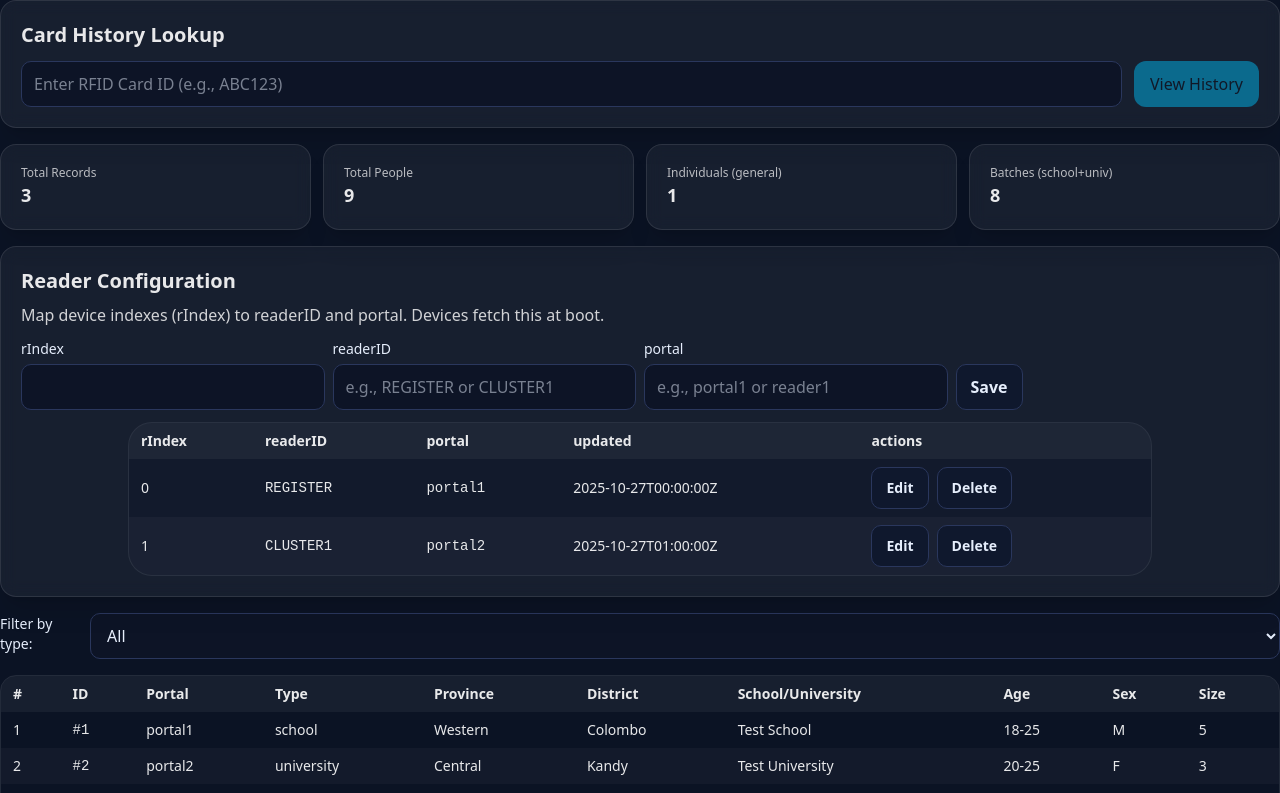
Test: AdminPortal › Reader Configuration Management › should validate reader configuration form
expect the heading "Reader Configuration" is shown: met, box [21,267,236,294]
Try to save with invalid rIndex
Type "-1" into the number field at (173, 387), box [21,364,324,410]
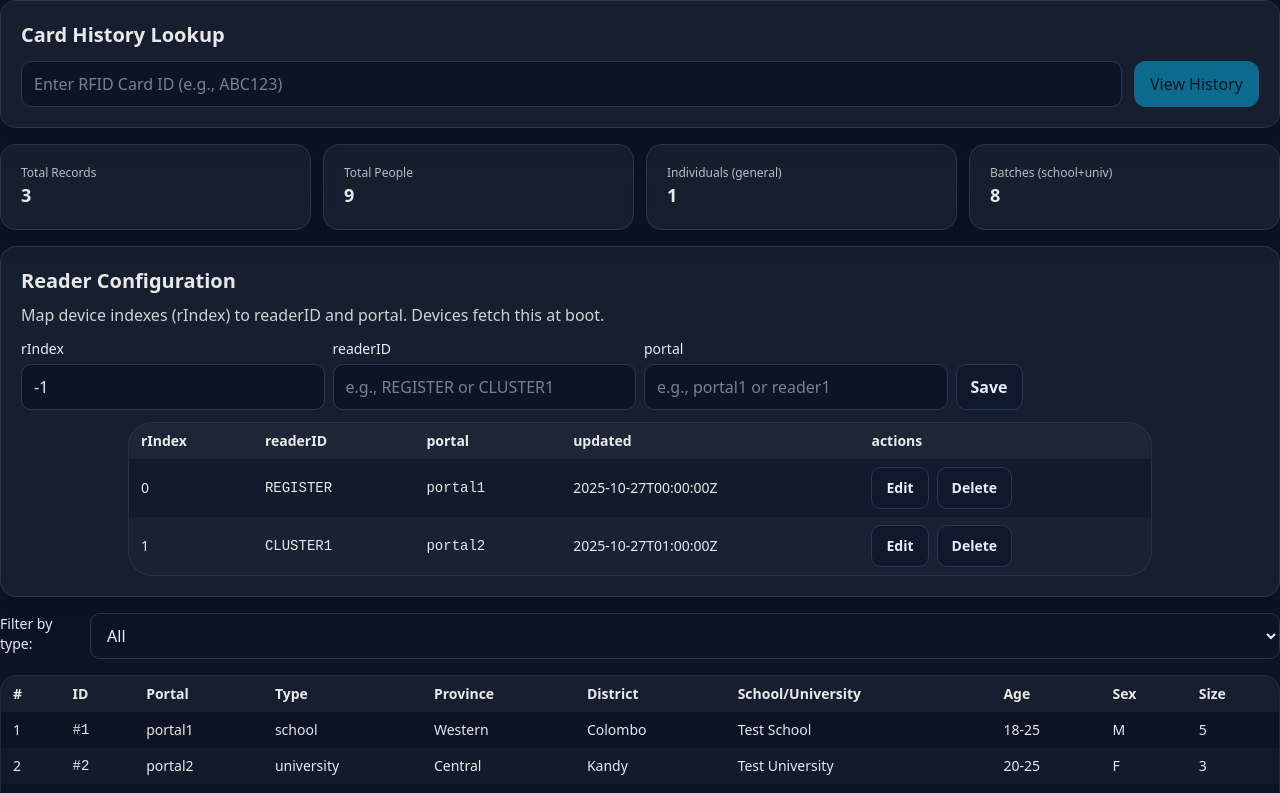
Click the button "Save" at (989, 387), box [956,364,1022,410]
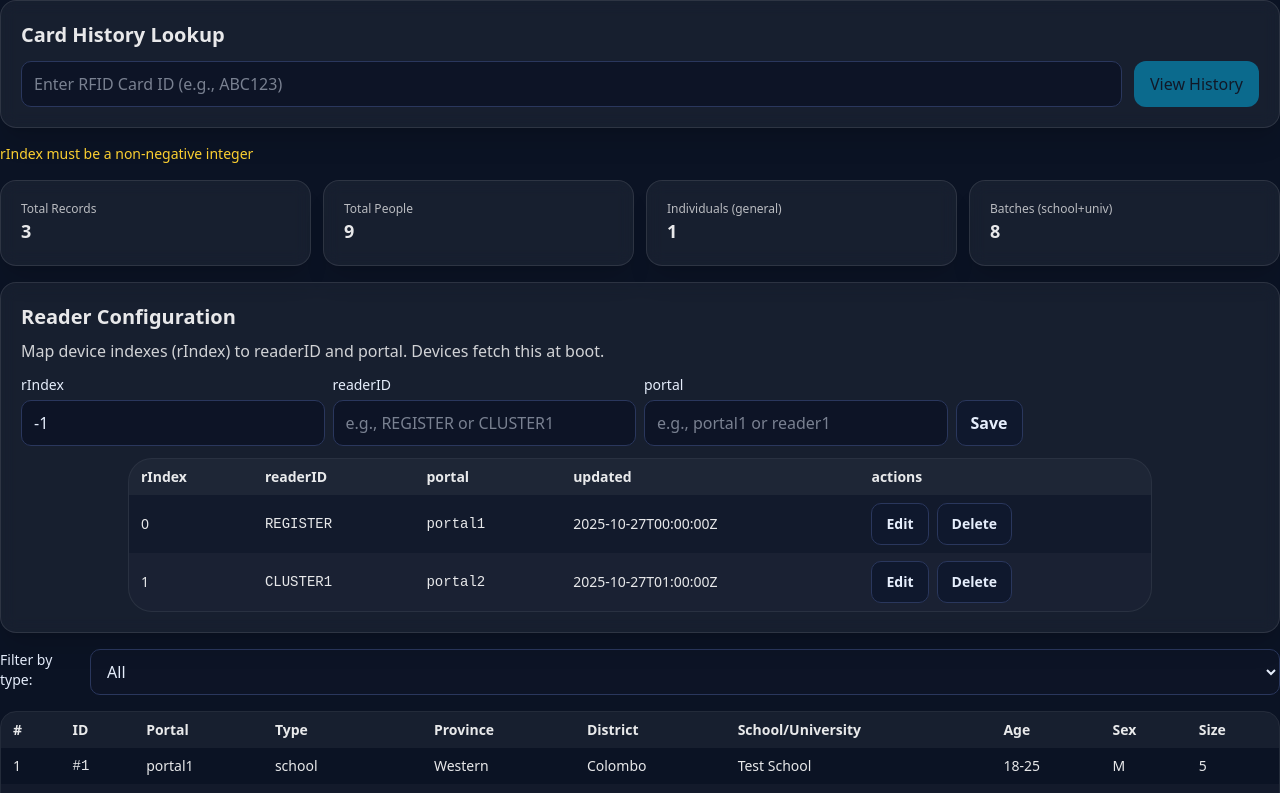
expect the text "rIndex must be a non-negative integer" is shown: met, box [0,144,253,163]
Try to save with missing fields
Replace the text in the number field with "1" at (173, 423), box [21,400,324,446]
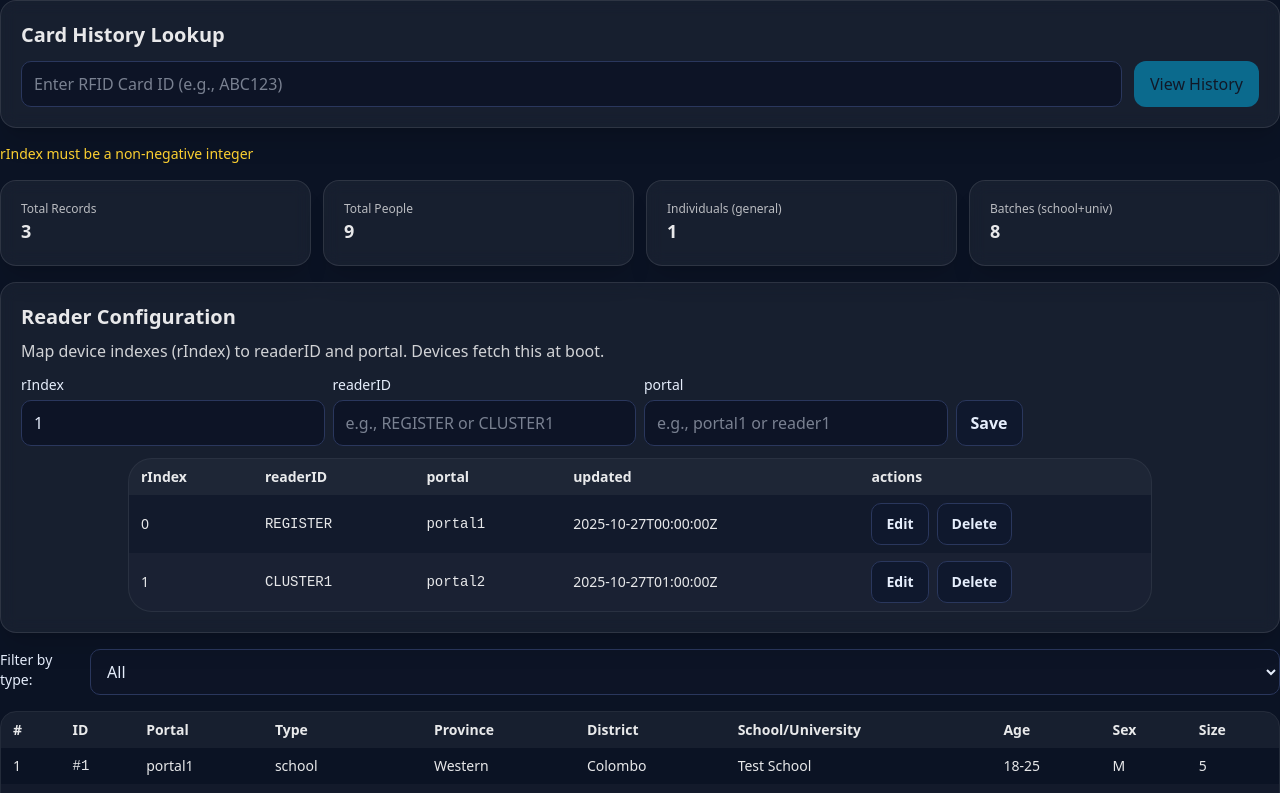
Click the button "Save" at (989, 423), box [956,400,1022,446]
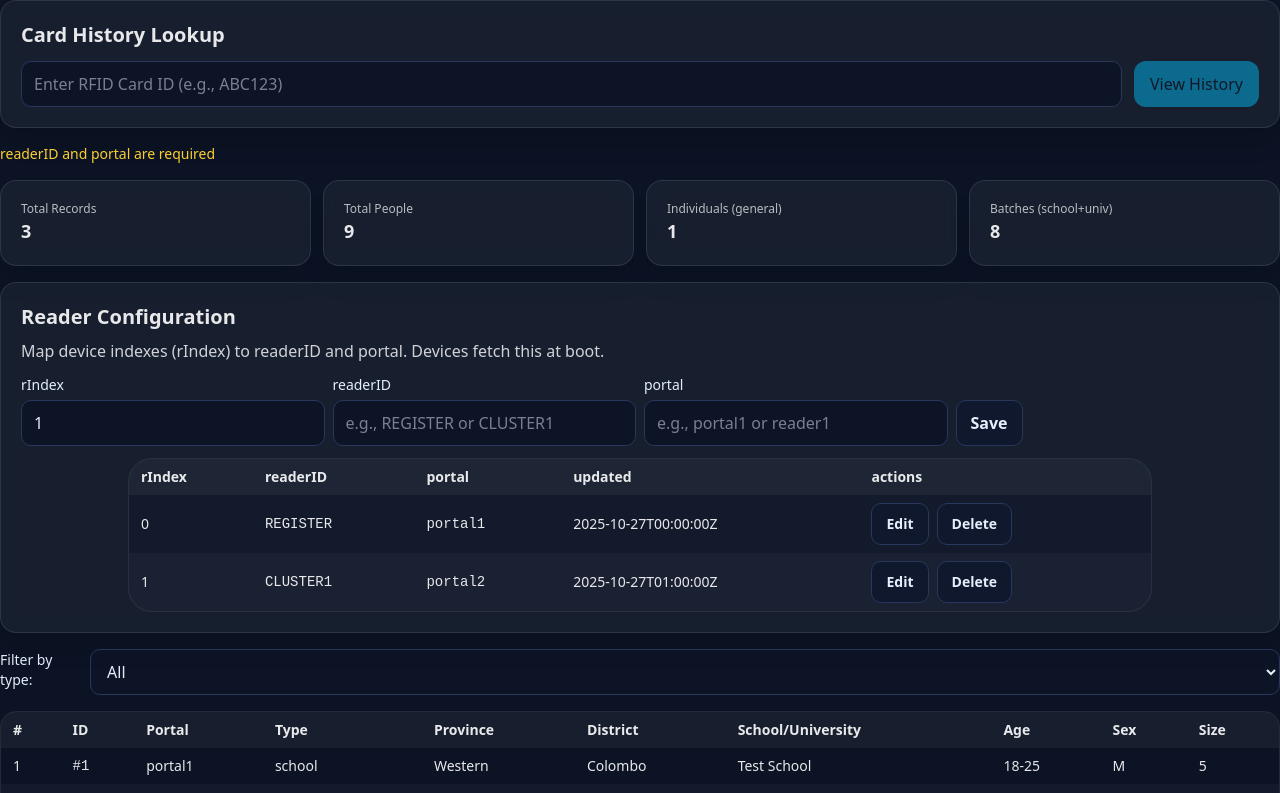
expect the text "readerID and portal are required" is shown: met, box [0,144,215,163]
